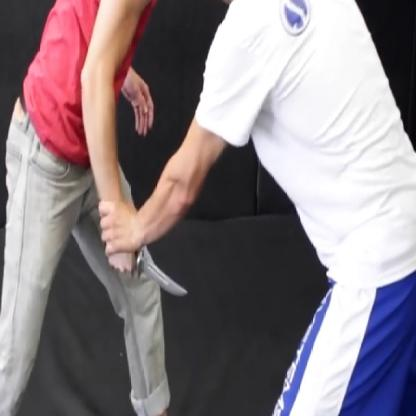knife: (97, 234, 193, 308)
